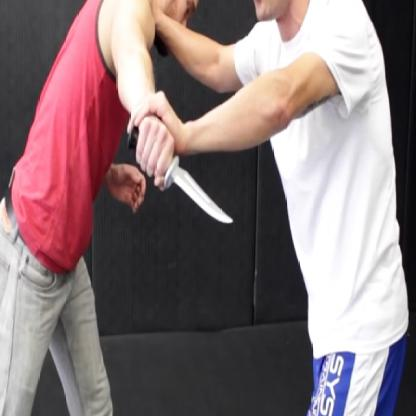knife: (126, 124, 240, 239)
